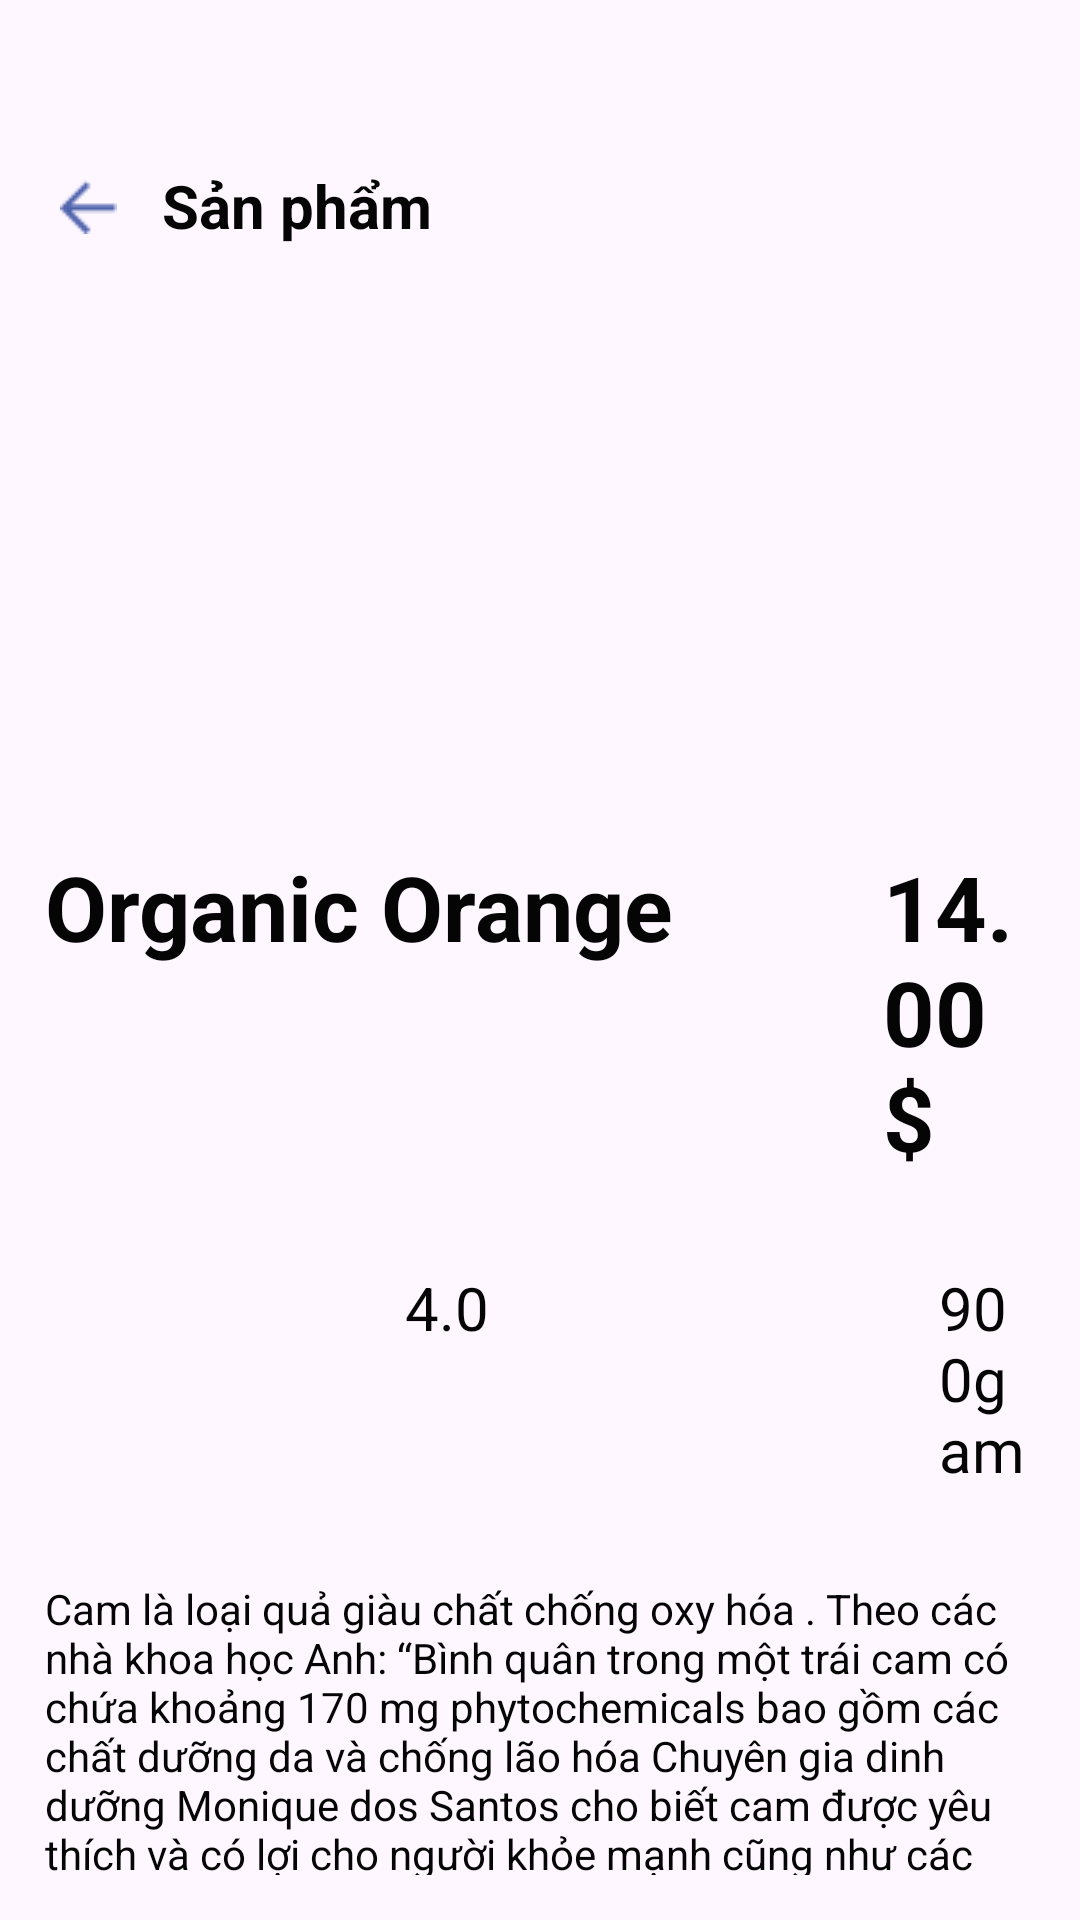

Locate icon controls on the screen. Image size 1080x1920, boxes as region(x1, y1, x2, y2).
back: region(60, 182, 117, 234)
